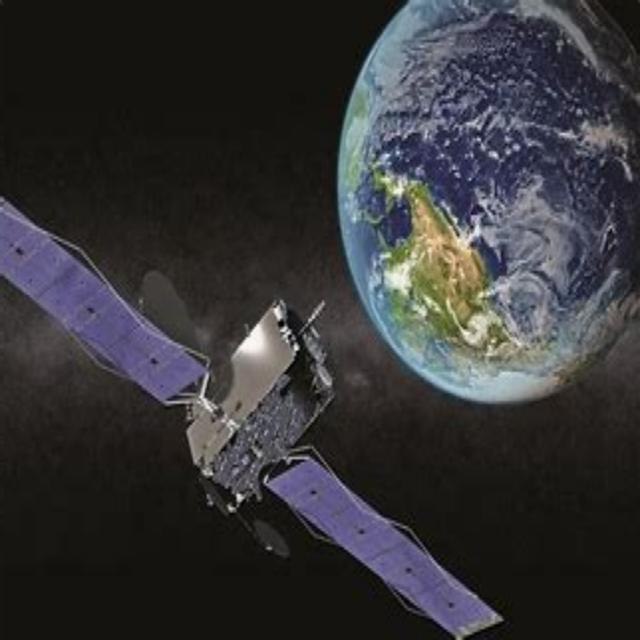satellite: (0, 202, 510, 640)
